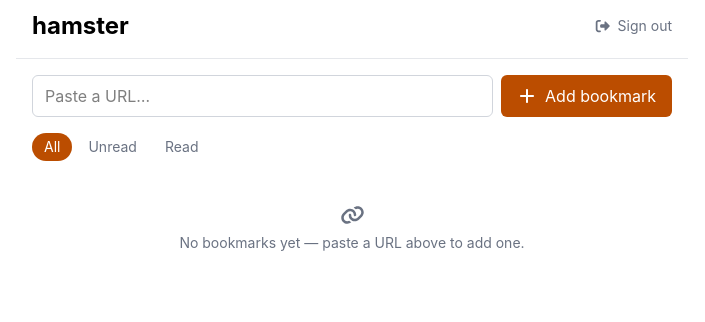
Test: BookmarksPage › shows an error message when adding a bookmark fails
Type "https://example.com" into the field labelled "URL".
click(262, 96); type("https://example.com")  # box [32, 75, 493, 117]
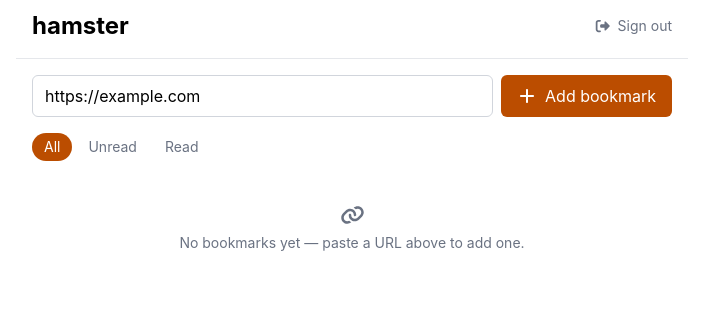
Click the button "Add bookmark".
click(586, 96)  # box [501, 75, 672, 117]
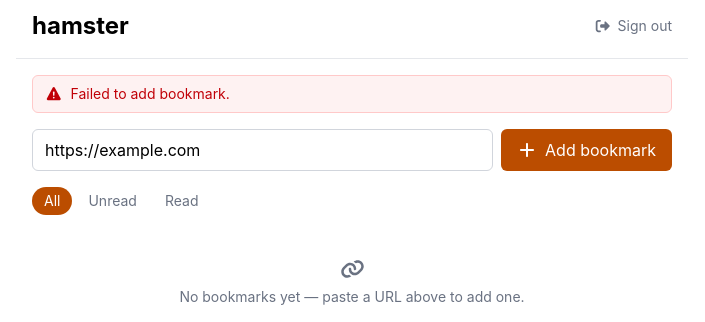
Expected: the text "Failed to add bookmark." is shown, [32, 75, 672, 113]
